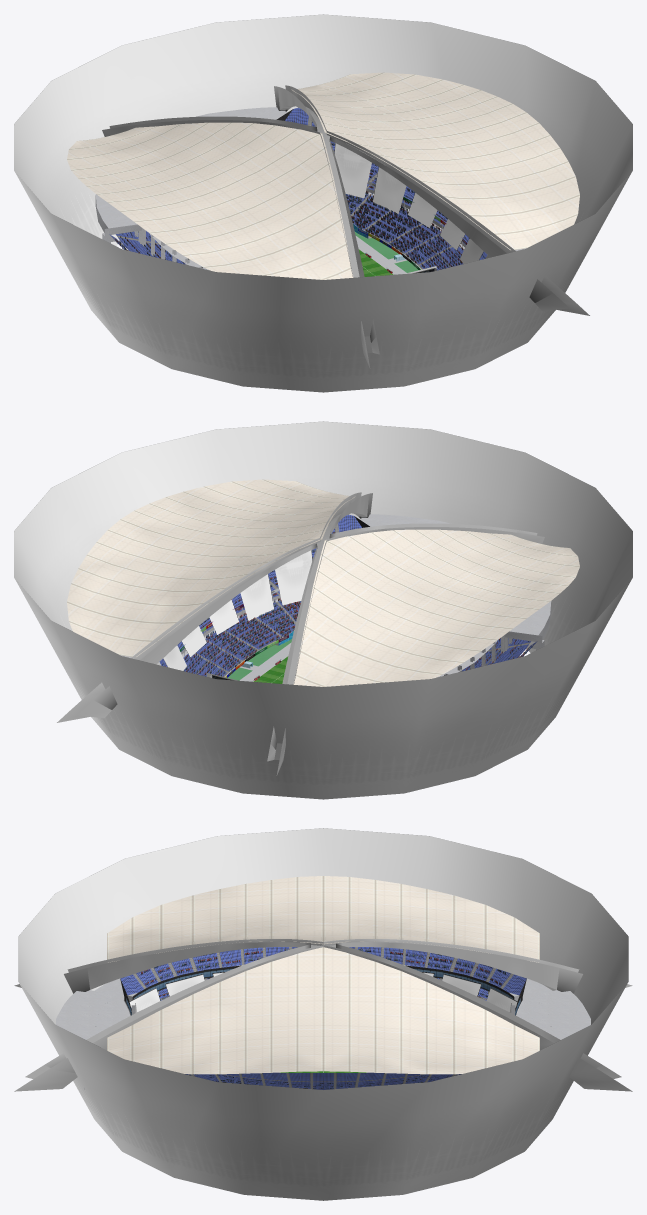
The model's file is Stadium.FBX.
3 views of the same model, one above another, from view 1: azimuth 30°, elevation 25°; view 2: azimuth 150°, elevation 25°; view 3: azimuth 270°, elevation 25° (orthographic).
Parts seen in each view (by area): view 1: Lights, Stadium, People, OuterFields; view 2: Lights, Stadium, People, OuterFields; view 3: Lights, Stadium, People.
Boxes of the visible parts, box(x1,y1,x2,y2) form: Lights: box(14, 14, 632, 392); Stadium: box(67, 72, 589, 368); People: box(115, 142, 485, 269); OuterFields: box(354, 231, 418, 274); Lights: box(14, 421, 632, 799); Stadium: box(57, 479, 579, 775); People: box(162, 532, 532, 676); OuterFields: box(227, 638, 292, 681); Lights: box(18, 828, 628, 1200); Stadium: box(14, 876, 632, 1091); People: box(131, 949, 515, 1088).
Size of the model in its own units: 431706 by 122094 by 431303.
Materials: 21 (19 with a texture image).
